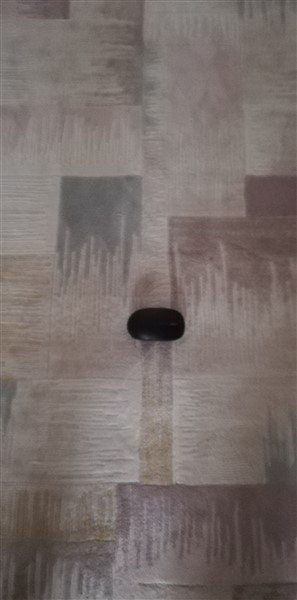mouse: (125, 303, 190, 347)
